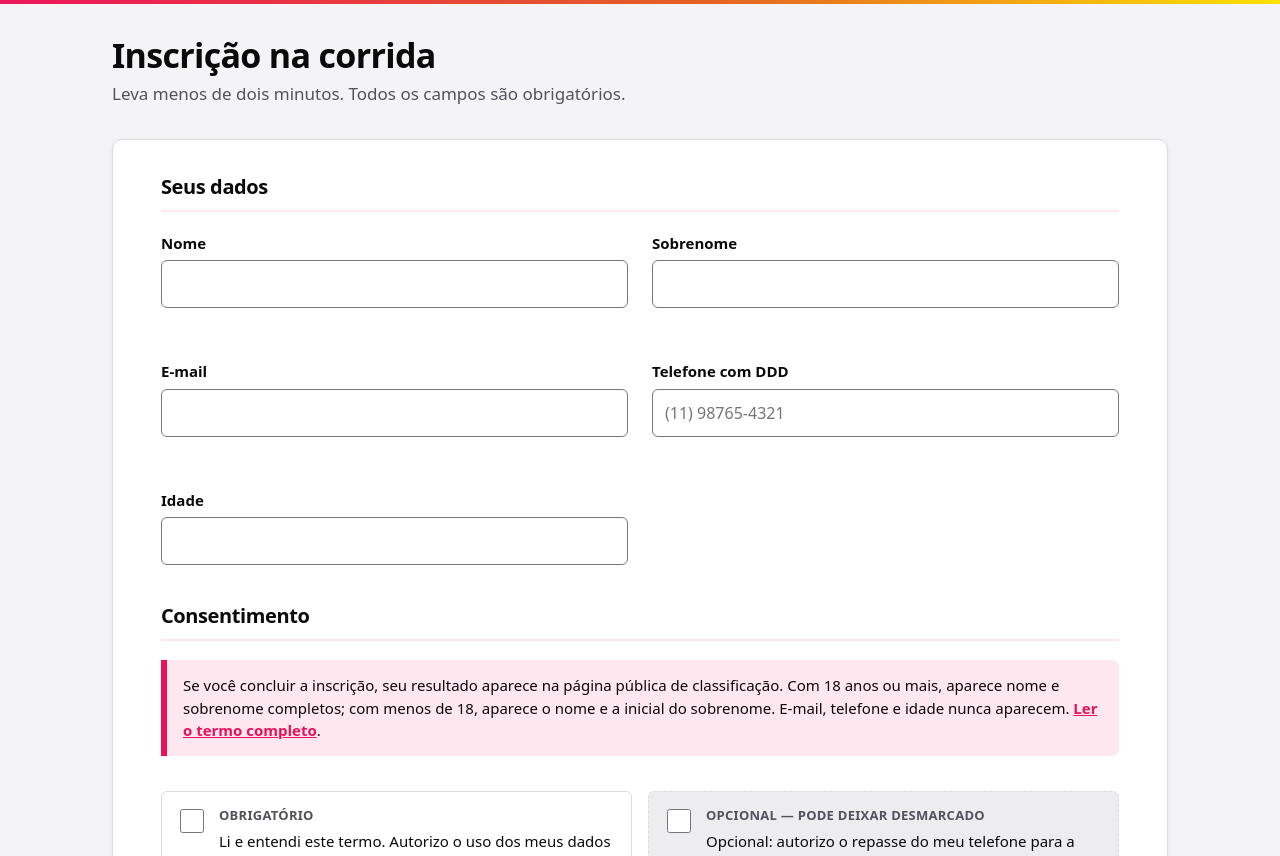
Scenario: FL-03 — falha de rede não vira cadastro duplicado › a nova tentativa reusa a mesma chave de idempotência
Step 1. Type "Marina" into the field labelled "Nome" → (394, 284), box [161,260,628,308]
Step 2. Type "Costa" into the field labelled "Sobrenome" → (886, 284), box [652,260,1119,308]
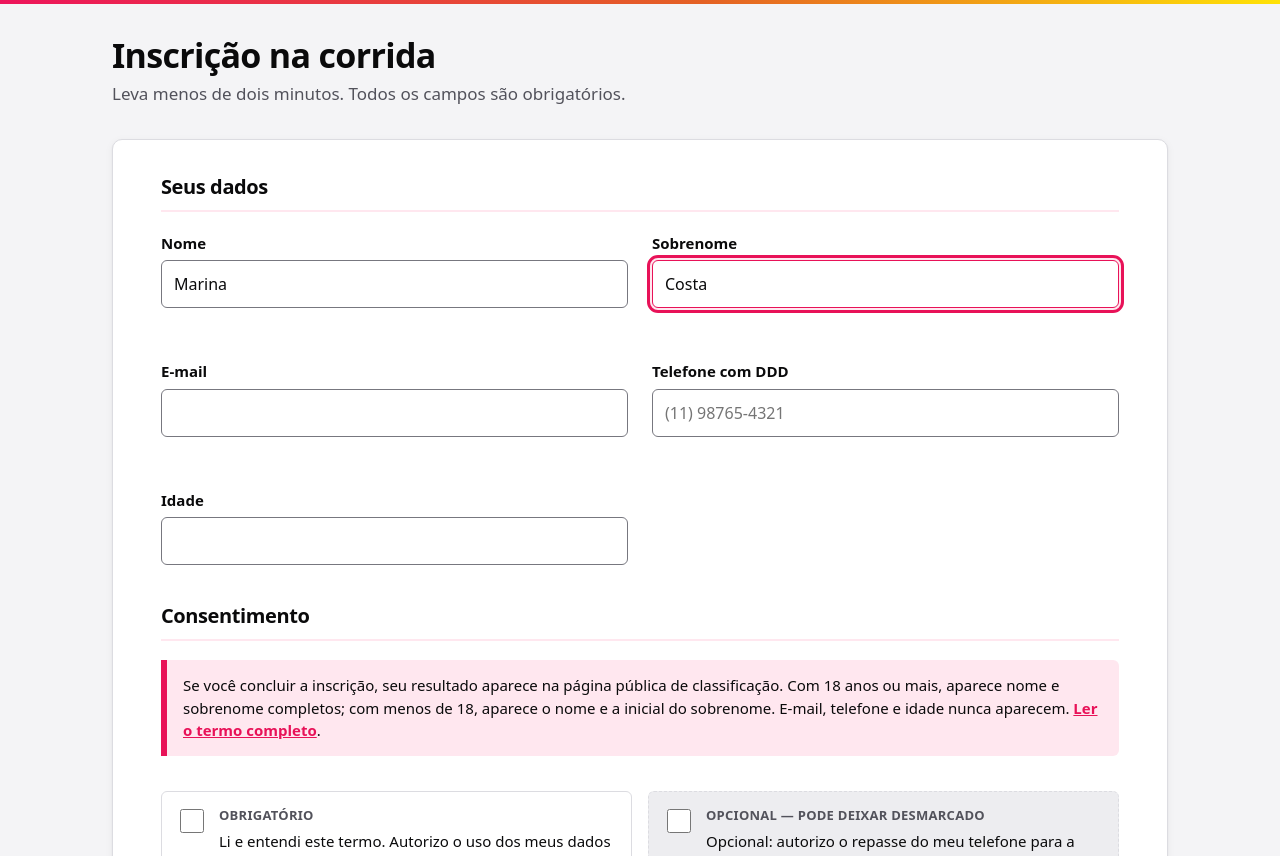
Step 3. Type "marina@exemplo.com" into the field labelled "E-mail" → (394, 413), box [161,389,628,437]
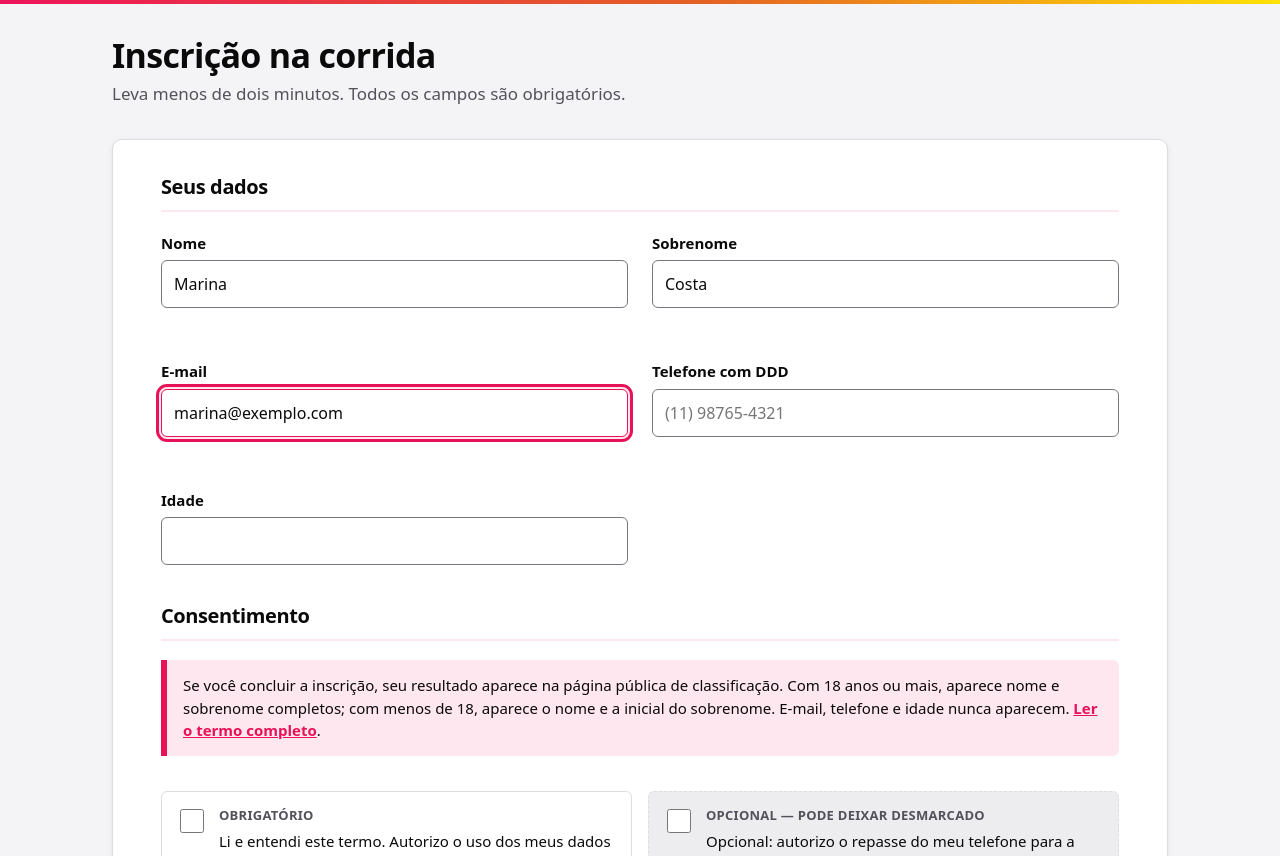
Step 4. Type "11987654321" into the field labelled "Telefone com DDD" → (886, 413), box [652,389,1119,437]
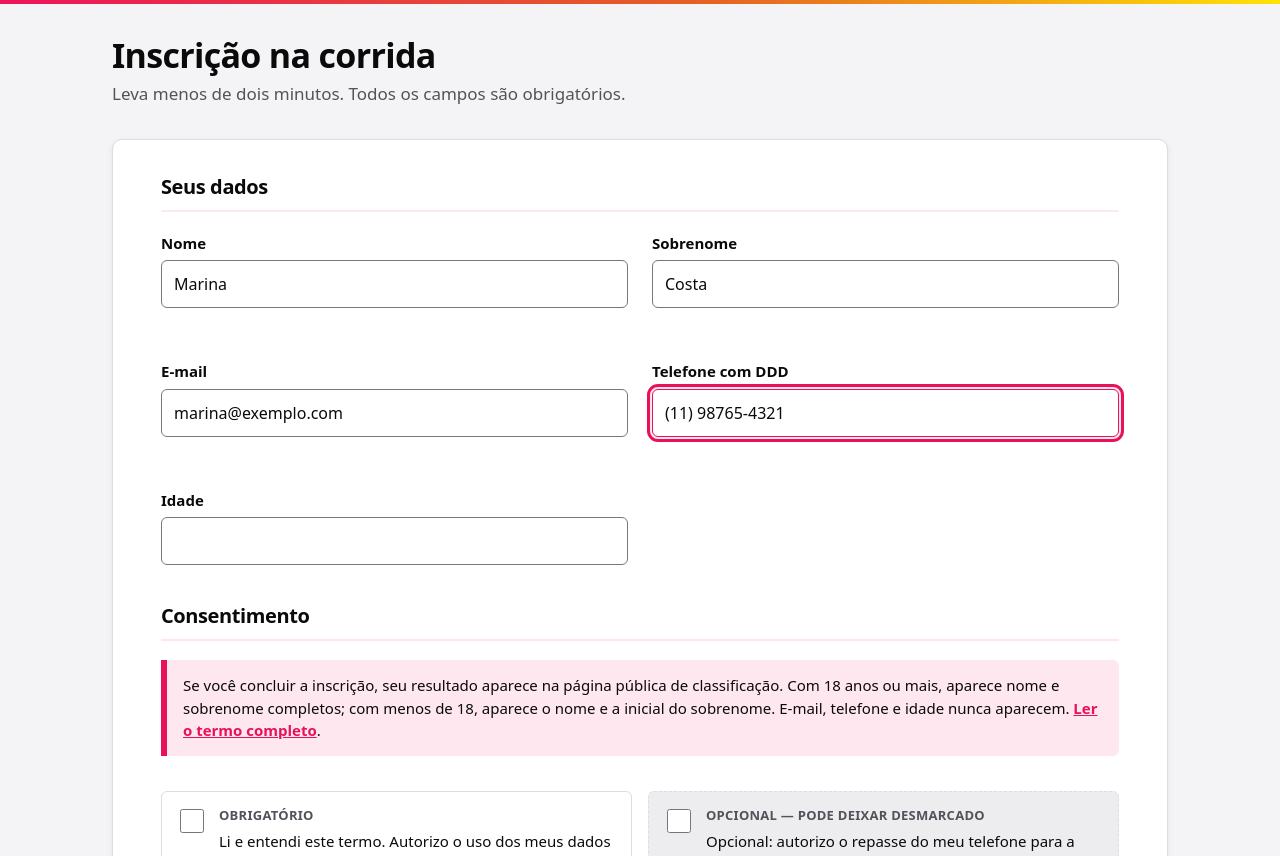
Step 5. Type "30" into the field labelled "Idade" → (394, 541), box [161,517,628,565]
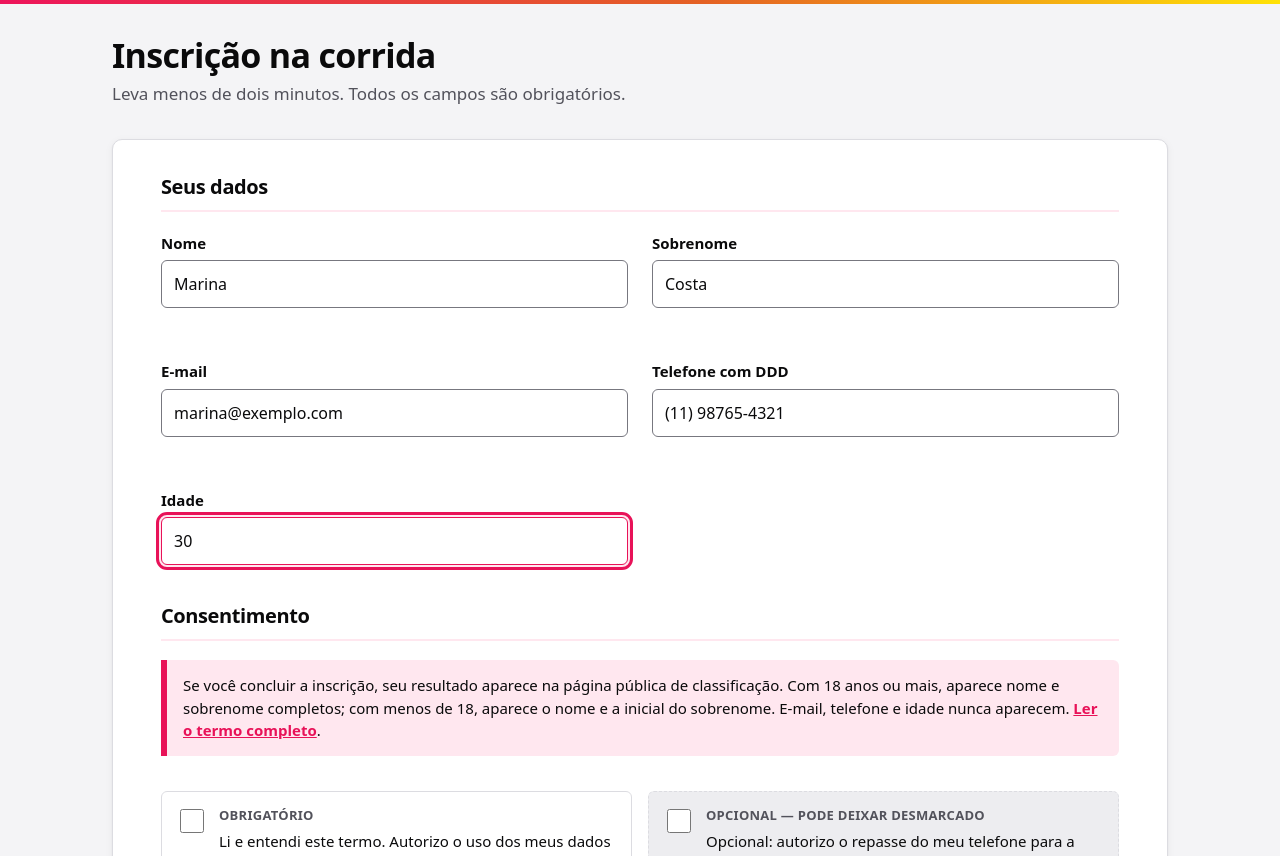
Step 6. Click the checkbox labelled "Li e entendi este termo" → (192, 821), box [180,809,204,833]
(page scrolled)
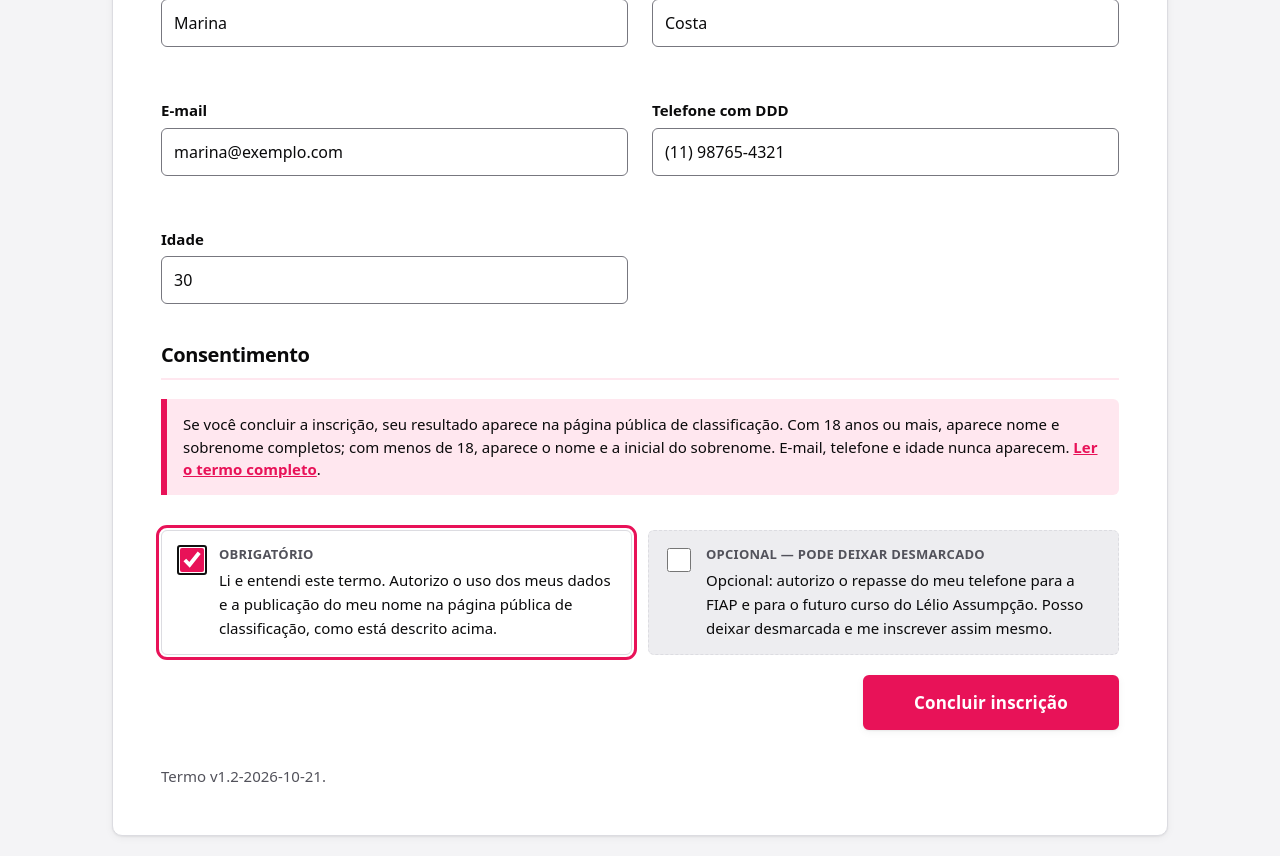
Step 7. Click the button "Concluir inscrição" → (991, 703), box [863,675,1119,730]
(page scrolled)
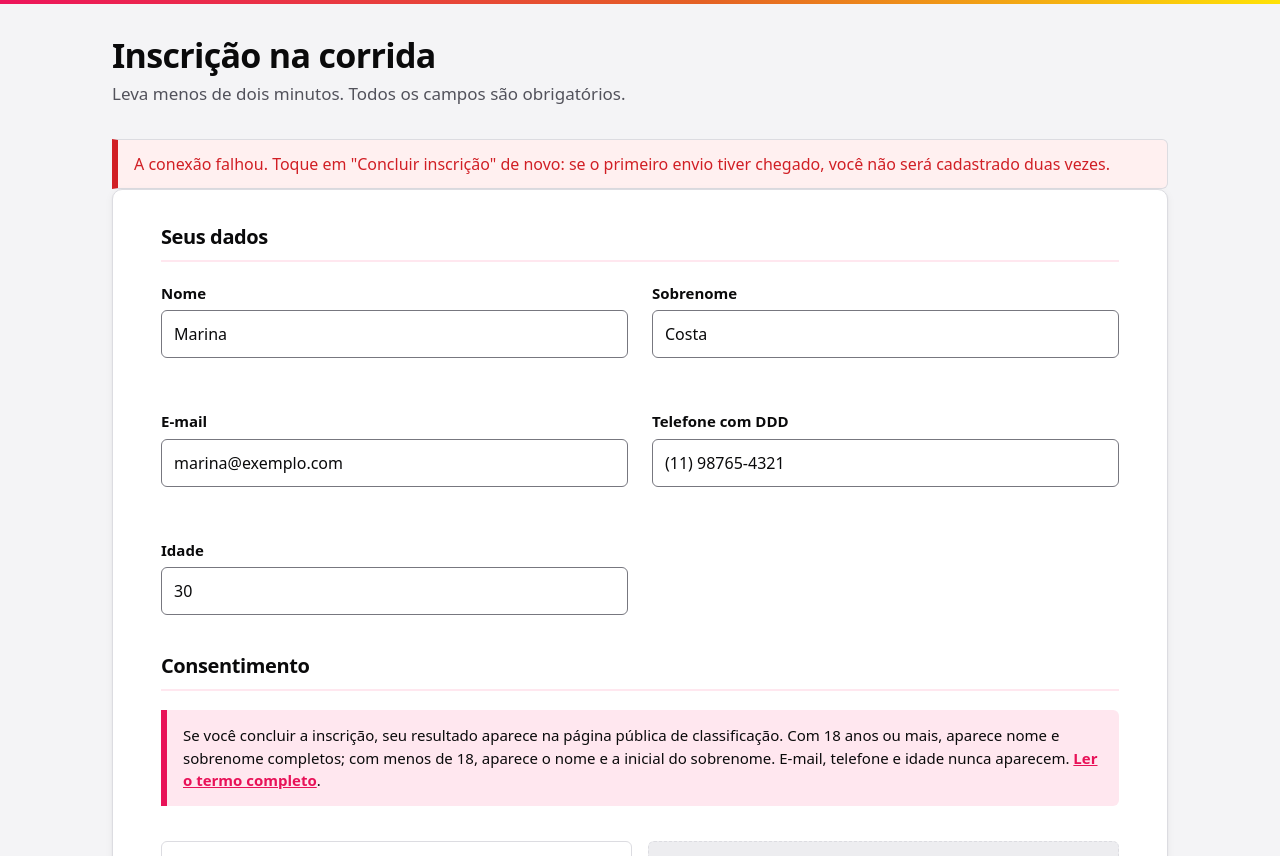
Expected: the text "A conexão falhou" is shown, [134,153,1110,175]
